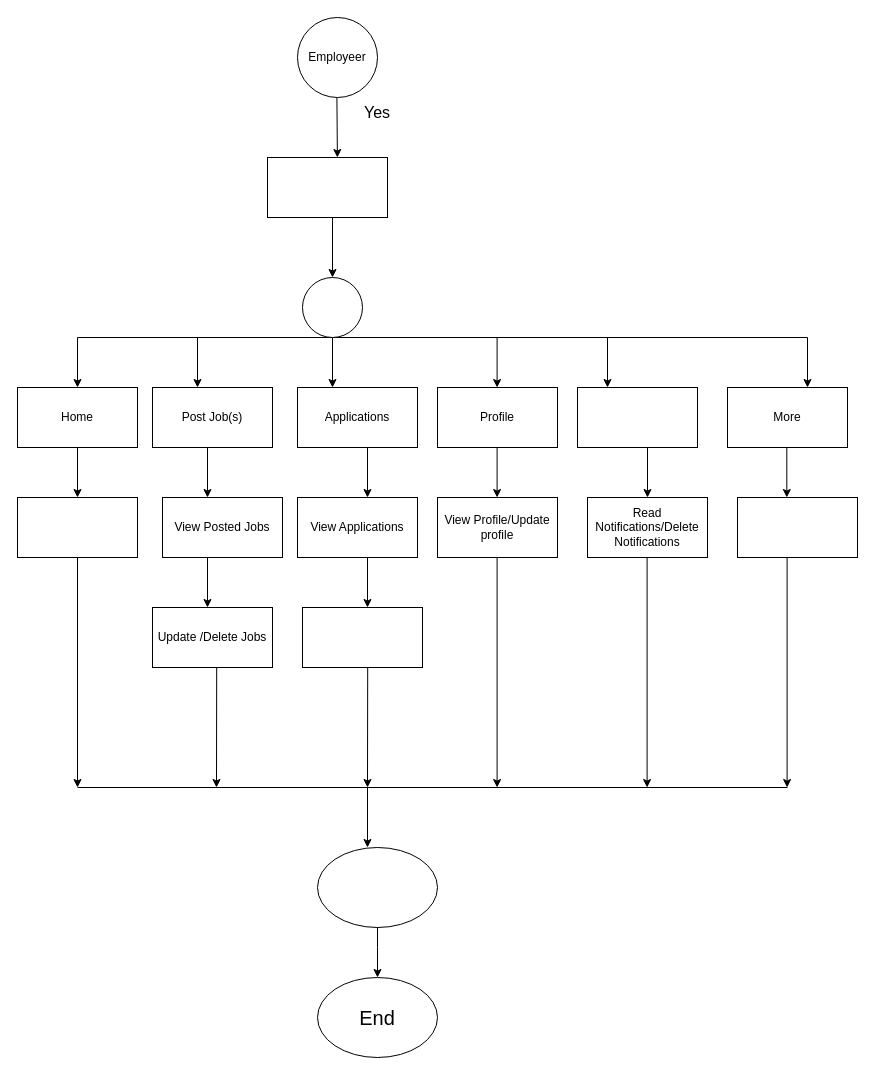
The diagram is 875 pixels wide and 1075 high, and some of its shapes have lost their labels. Each missing label, with the centre of its shape:
"About us/Help/FAQ" goes at point 797,527.
"App" goes at point 327,187.
"Approve /Reject /View Resume" goes at point 362,637.
"Logout" goes at point 377,887.
"Notification" goes at point 637,417.
"Post Jobs" goes at point 77,527.
